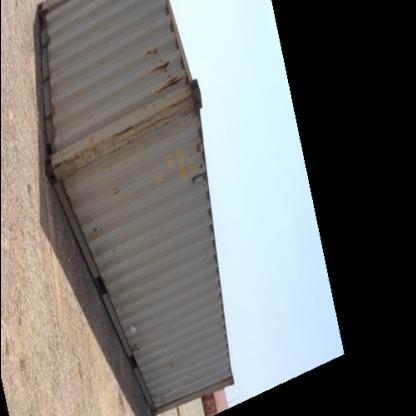Damage: (53, 126, 138, 168), (140, 42, 187, 96), (148, 95, 202, 130), (182, 140, 210, 180), (130, 320, 152, 366), (82, 218, 106, 238), (150, 390, 172, 410), (114, 184, 130, 204), (166, 361, 182, 371)
